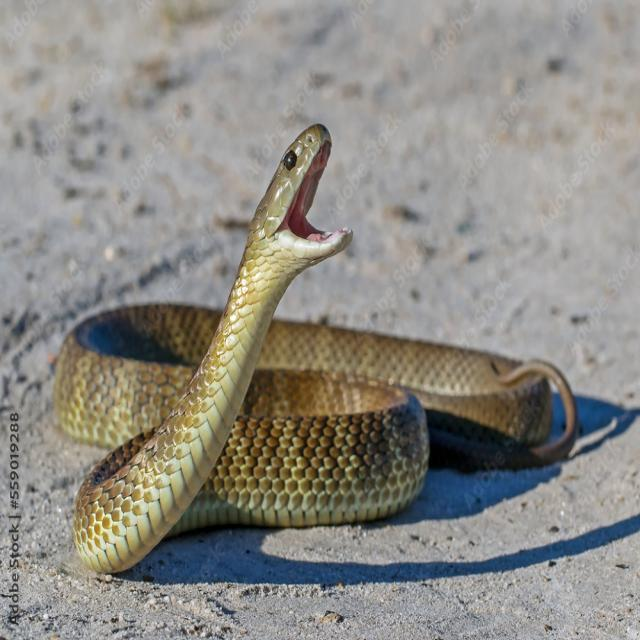Snake: (52, 114, 579, 602)
